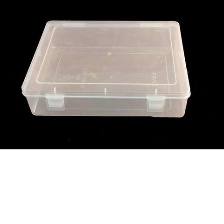plastic_box: (13, 13, 197, 124)
